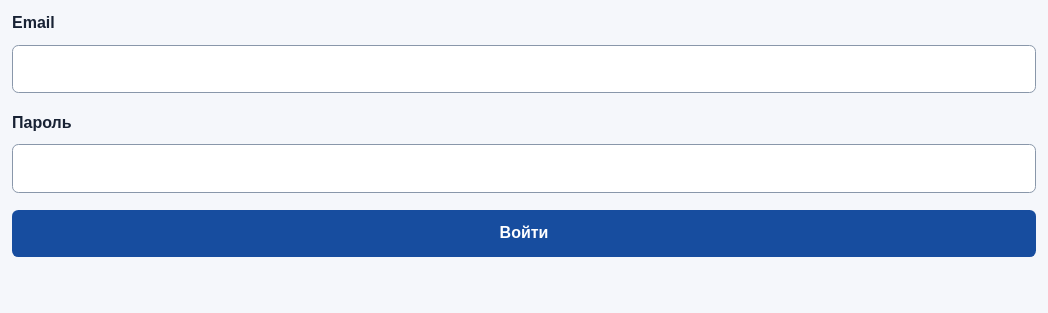
login does not call an origin rejection a wrong password
This screenshot has width=1048, height=313.
In the field labelled "Email": (524, 69) [12,45,1036,93], type "user@example.com"
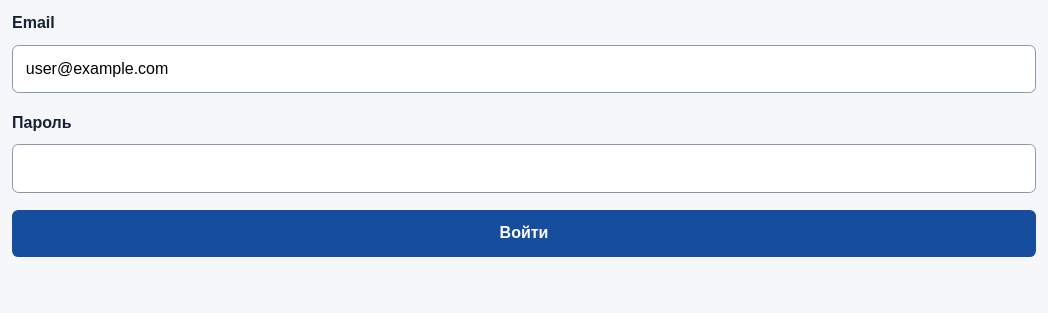
In the password field labelled "Пароль": (524, 168) [12,144,1036,193], type "password-123"
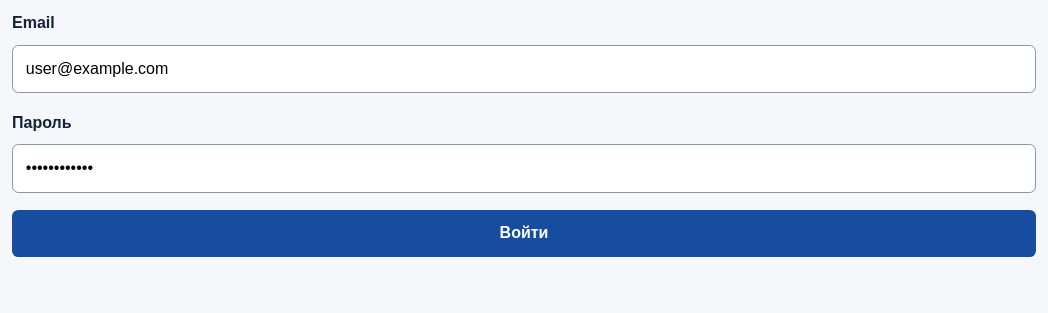
Click the button "Войти": click(524, 233) [12,210,1036,256]
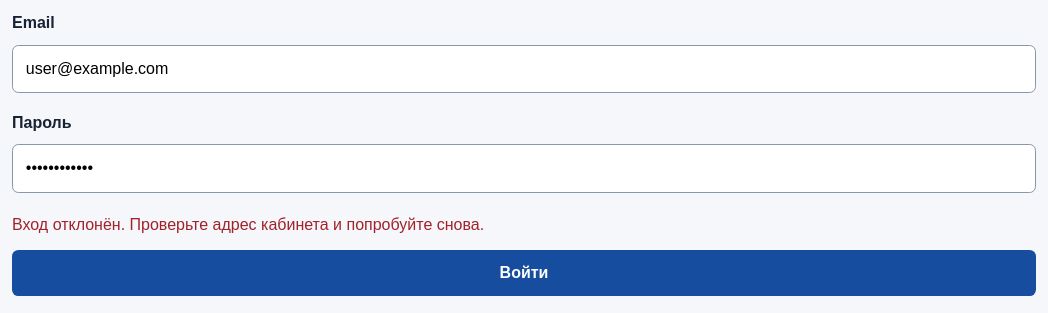
Expected: the message shows "Вход отклонён", [12,216,484,233]
